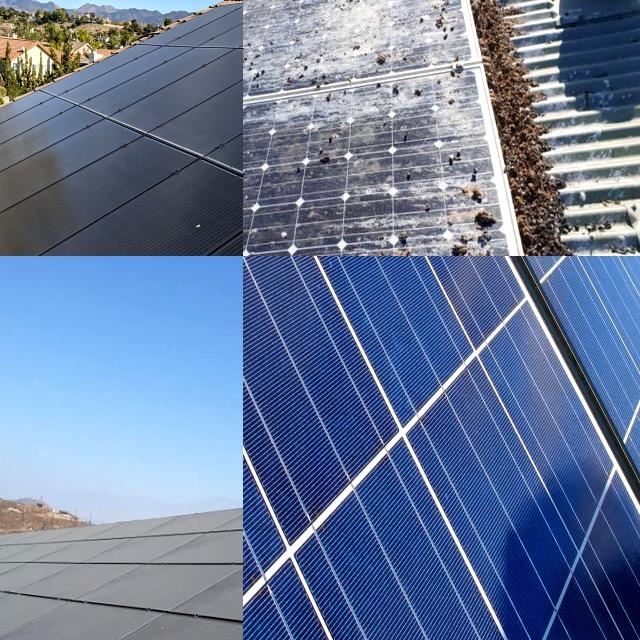bird: (382, 131, 437, 199), (282, 39, 336, 102), (286, 130, 354, 178), (442, 211, 498, 256), (325, 0, 409, 29), (344, 233, 443, 256), (366, 74, 434, 106), (453, 156, 487, 212), (420, 0, 459, 48), (358, 40, 417, 70), (436, 57, 482, 94), (243, 44, 271, 88), (418, 0, 455, 26), (243, 57, 262, 106), (243, 191, 265, 224)
crack: (243, 256, 417, 573), (275, 256, 498, 465)
dust: (0, 578, 98, 640), (134, 522, 243, 568), (0, 531, 103, 574), (112, 566, 188, 604)
